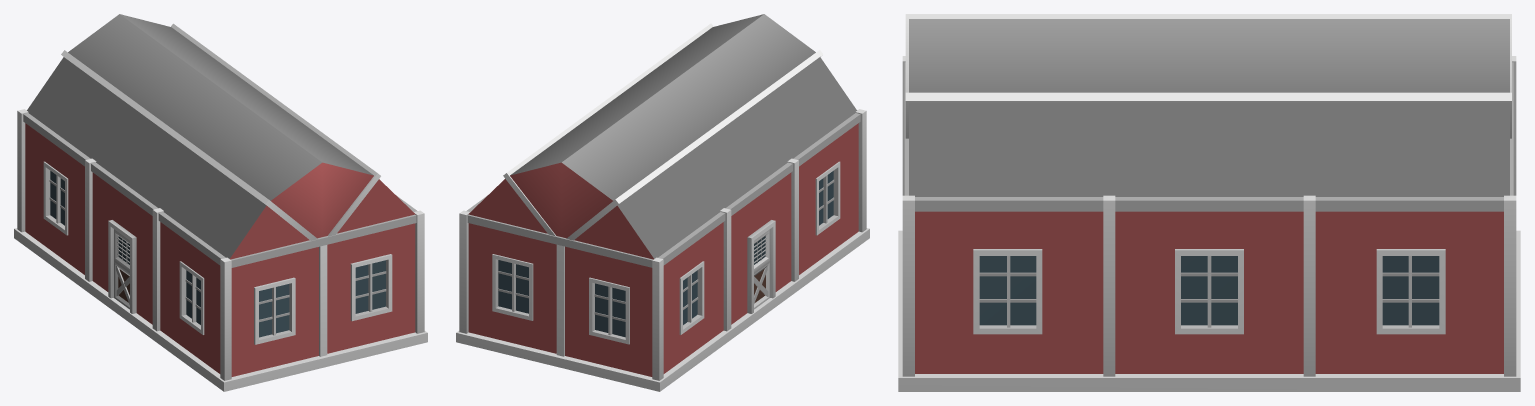
File: house_019.glb
3 views of the same model, side by side, from view 1: azimuth 30°, elevation 25°; view 2: azimuth 150°, elevation 25°; view 3: azimuth 270°, elevation 25° (orthographic). The views are drawn at different scales.
Parts seen in each view (by area): view 1: house_019; view 2: house_019; view 3: house_019.
Part boxes in pixels (<box>): house_019: <box>14,14,427,391</box>; house_019: <box>456,14,869,391</box>; house_019: <box>898,14,1520,391</box>.
Size of the model in its own units: 5.51 by 5.22 by 9.84.
Materials: 1 (1 with a texture image).
